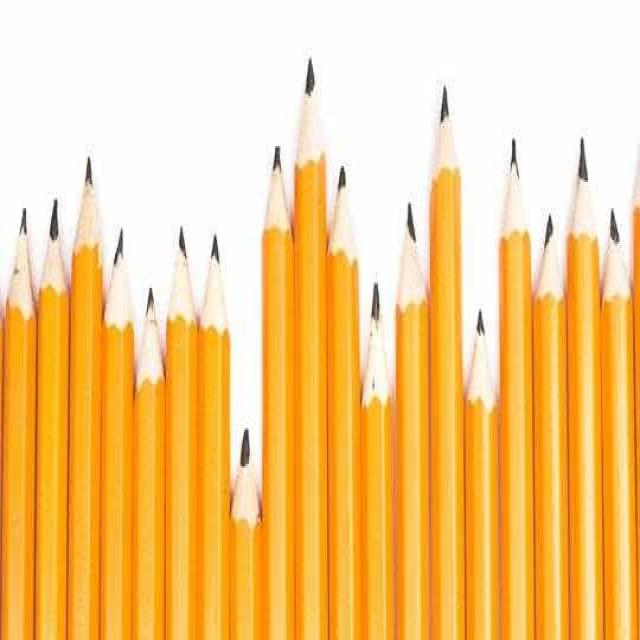pencil: (424, 72, 470, 638), (563, 123, 611, 638), (293, 40, 331, 638), (594, 186, 639, 638), (257, 131, 296, 638), (495, 122, 533, 638), (66, 137, 105, 638), (324, 144, 363, 638), (391, 190, 433, 638), (31, 184, 71, 638), (0, 185, 39, 638), (162, 212, 200, 638), (100, 204, 137, 638), (532, 195, 568, 638), (463, 293, 506, 638), (197, 221, 232, 638), (361, 261, 399, 638), (134, 273, 165, 638), (228, 412, 264, 638)
